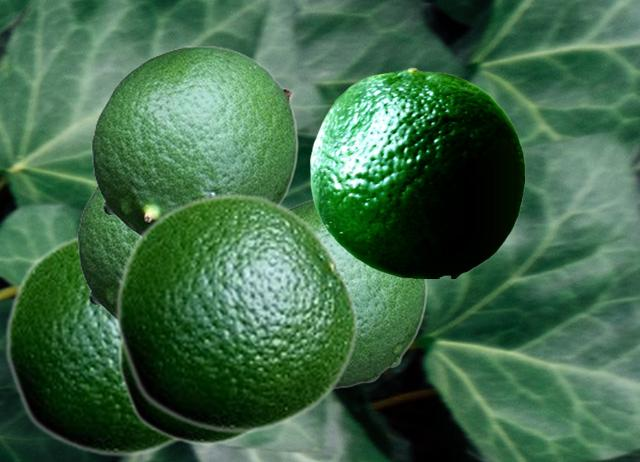calamansi: (114, 192, 358, 434), (310, 67, 524, 277), (4, 232, 182, 457), (91, 45, 297, 235), (288, 197, 426, 388), (117, 337, 255, 445), (77, 184, 136, 319)
